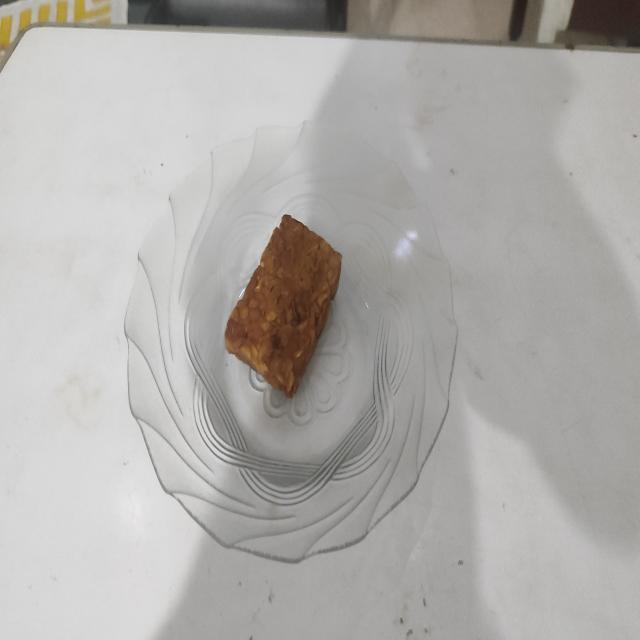tempe_goreng: (225, 215, 342, 397)
